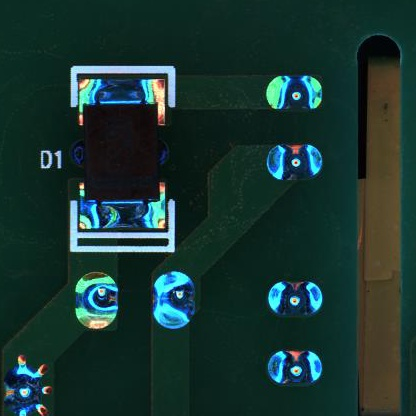spot: (3, 349, 50, 416), (72, 270, 121, 331), (151, 271, 197, 329), (265, 143, 327, 182), (265, 280, 326, 318), (264, 348, 323, 387), (266, 74, 323, 112)
